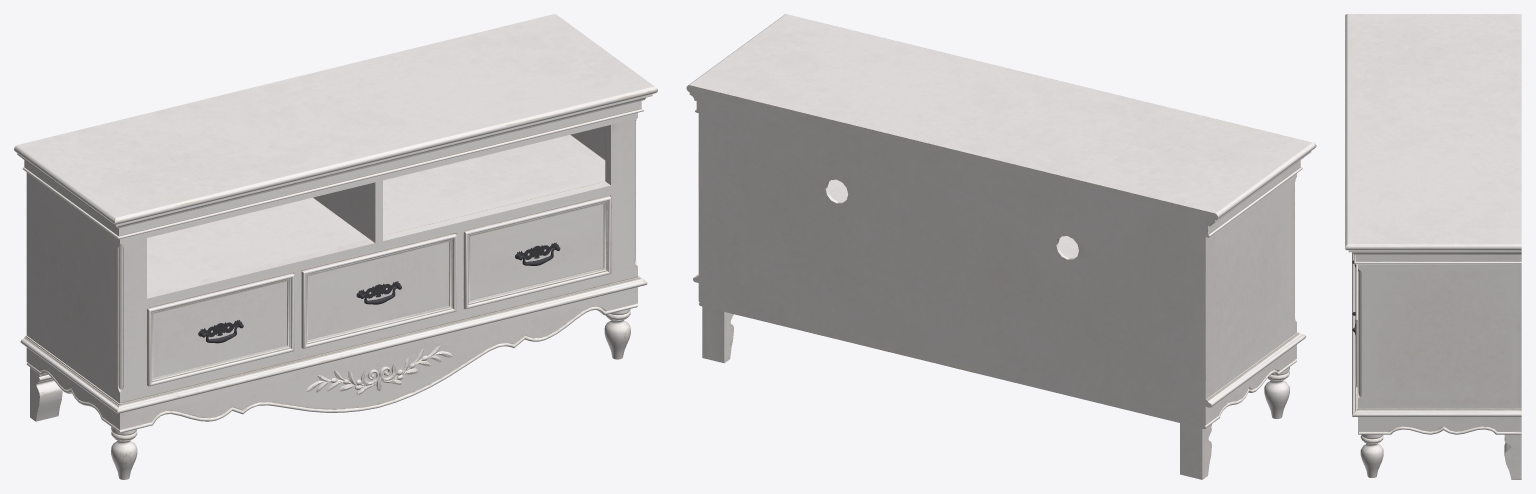
The model's file is example167.glb.
3 views of the same model, side by side, from view 1: azimuth 30°, elevation 25°; view 2: azimuth 150°, elevation 25°; view 3: azimuth 270°, elevation 25° (orthographic). The views are drawn at different scales.
Visible parts, largest first — view 1: PPBU.wood_PPBU, PPBU.metal_PPBU.006; view 2: PPBU.wood_PPBU; view 3: PPBU.wood_PPBU.
Boxes of the visible parts, bbox=[...] form: PPBU.wood_PPBU: bbox=[14, 14, 657, 479]; PPBU.metal_PPBU.006: bbox=[198, 242, 560, 343]; PPBU.wood_PPBU: bbox=[686, 14, 1316, 479]; PPBU.wood_PPBU: bbox=[1345, 14, 1521, 479].
Size of the model in its own units: 1.4 by 0.6786 by 0.4489.
Materials: 3 (2 with a texture image).
